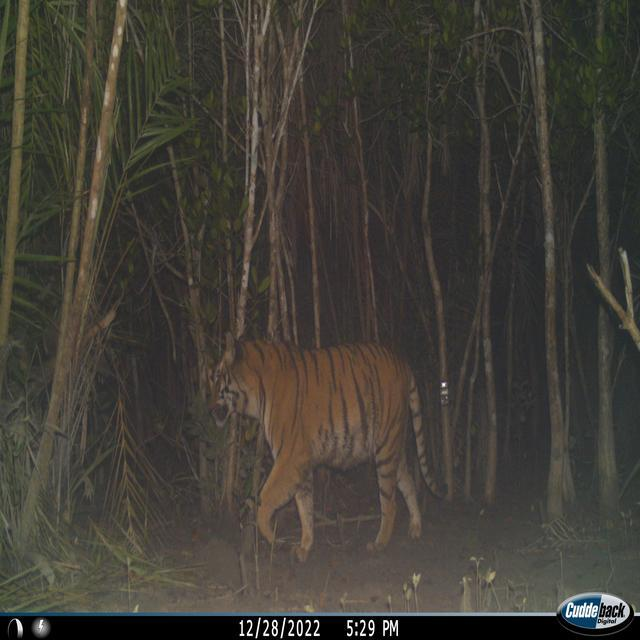tiger: (206, 335, 447, 563)
